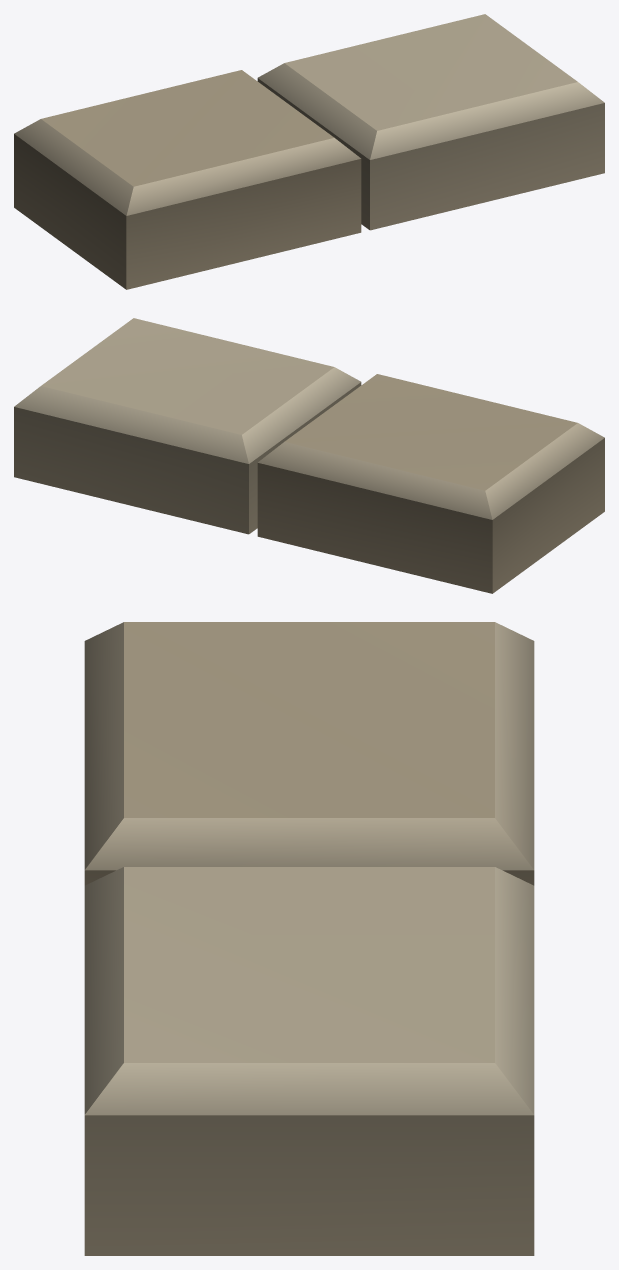
Rendered from bord_pierre.glb.
3 views of the same model, one above another, from view 1: azimuth 30°, elevation 25°; view 2: azimuth 150°, elevation 25°; view 3: azimuth 270°, elevation 25° (orthographic). The views are drawn at different scales.
Parts seen in each view (by area): view 1: bord_pierre; view 2: bord_pierre; view 3: bord_pierre.
Part boxes in pixels (<box>): bord_pierre: <box>14,14,604,289</box>; bord_pierre: <box>14,318,604,593</box>; bord_pierre: <box>84,622,534,1255</box>.
Bounding box in the file's own units: 1.97 × 0.3601 × 0.8.
